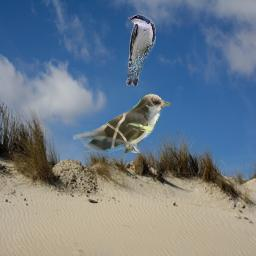Cuckoo: (73, 93, 171, 153)
Swallow: (125, 14, 156, 86)
